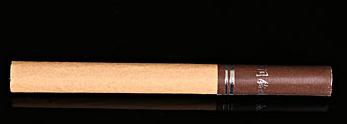smoke: (11, 60, 333, 96)
